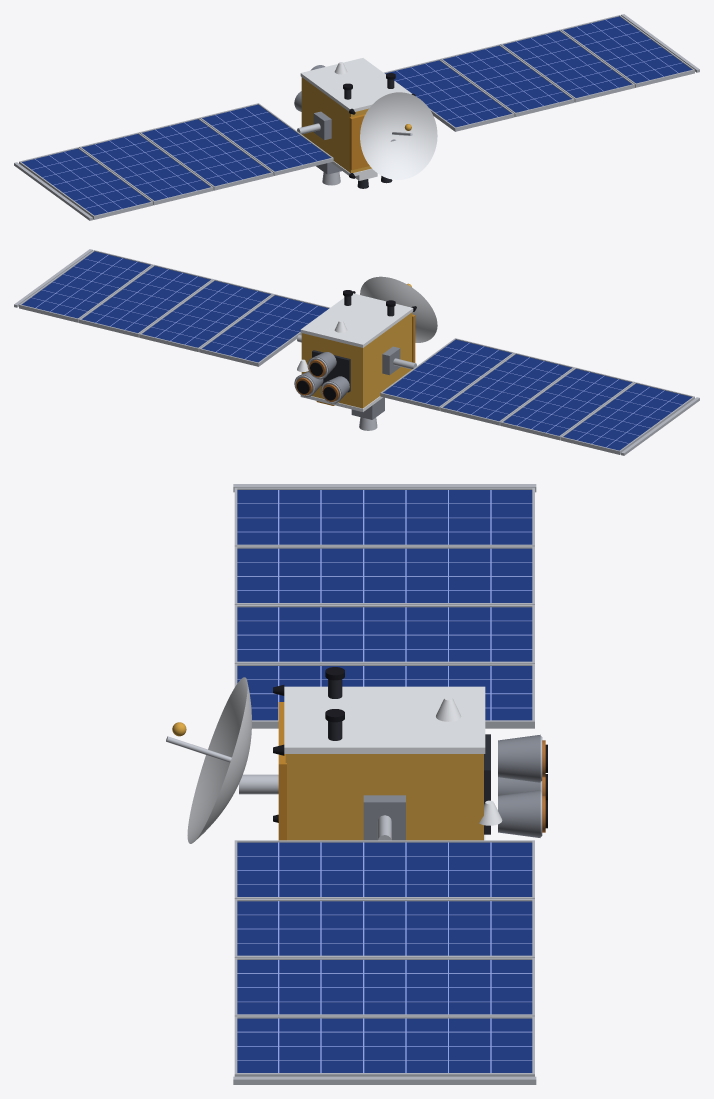
Rendered from dawn.glb.
3 views of the same model, one above another, from view 1: azimuth 30°, elevation 25°; view 2: azimuth 150°, elevation 25°; view 3: azimuth 270°, elevation 25° (orthographic). The views are drawn at different scales.
Parts seen in each view (by area): view 1: solar-panel (×8), dawn, high-gain-dish; view 2: solar-panel (×8), dawn, high-gain-dish; view 3: solar-panel (×8), dawn, high-gain-dish.
Part boxes in pixels (bbox=[...]): solar-panel (×8): bbox=[19, 15, 694, 219]; dawn: bbox=[14, 14, 699, 220]; high-gain-dish: bbox=[360, 92, 437, 179]; solar-panel (×8): bbox=[19, 250, 694, 454]; dawn: bbox=[14, 249, 699, 455]; high-gain-dish: bbox=[360, 276, 437, 342]; solar-panel (×8): bbox=[234, 487, 534, 1076]; dawn: bbox=[166, 484, 547, 1084]; high-gain-dish: bbox=[187, 677, 251, 843].
Size of the model in its own units: 9.95 by 1.78 by 2.7.
